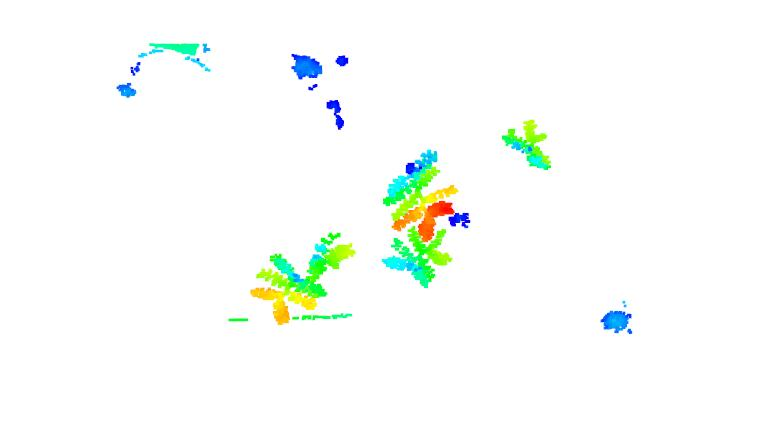chickpea: (378, 149, 457, 242), (248, 253, 330, 325), (379, 226, 454, 290), (500, 118, 556, 172), (301, 230, 354, 278)
